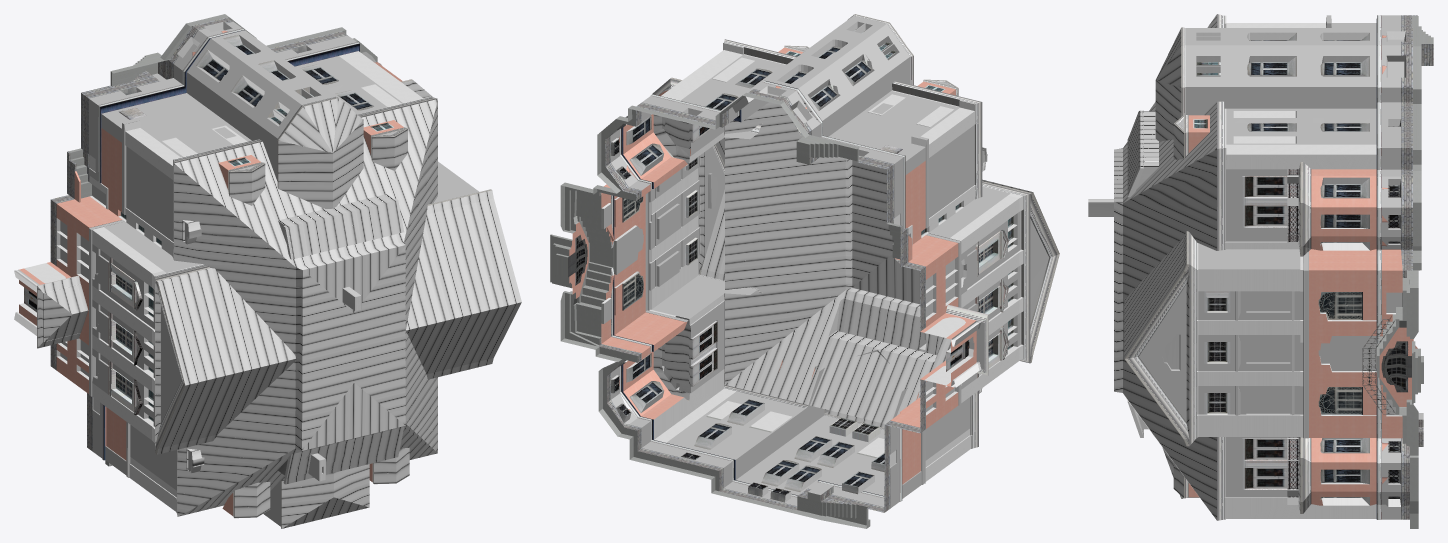
The model's file is Aia_12_1-origo.obj.
The picture shows the model from 3 angles, left to right: view 1: azimuth 30°, elevation 25°; view 2: azimuth 150°, elevation 25°; view 3: azimuth 270°, elevation 25°; orthographic projection. The views are drawn at different scales.
Visible parts, largest first — view 1: Aia_12_1; view 2: Aia_12_1; view 3: Aia_12_1.
Boxes of the visible parts, <box> form: Aia_12_1: <box>14,14,521,528</box>; Aia_12_1: <box>550,14,1059,528</box>; Aia_12_1: <box>1088,14,1433,528</box>.
Bounding box in the file's own units: 31.69 × 30 × 21.48.
